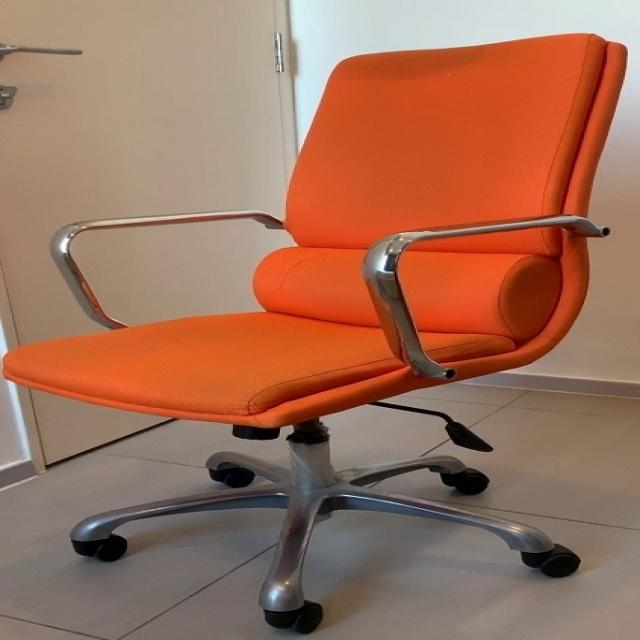Chair: (2, 34, 629, 640)
